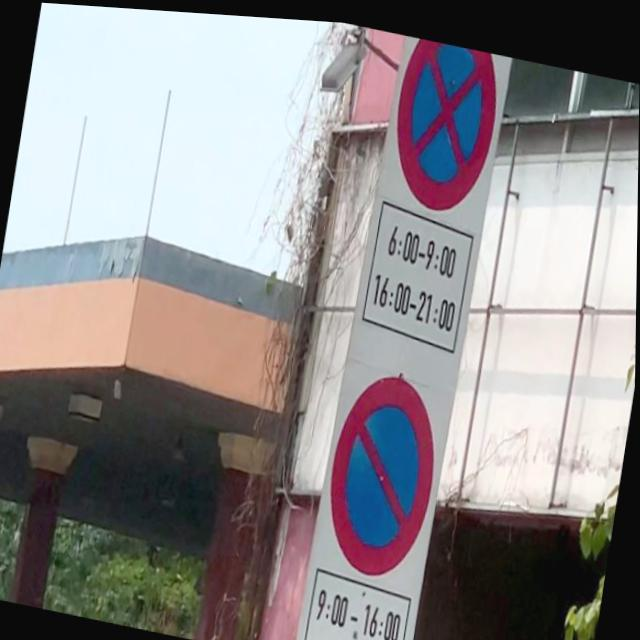Cam do xe: (320, 351, 449, 584)
Cam dung xe va do xe: (379, 29, 509, 224)
